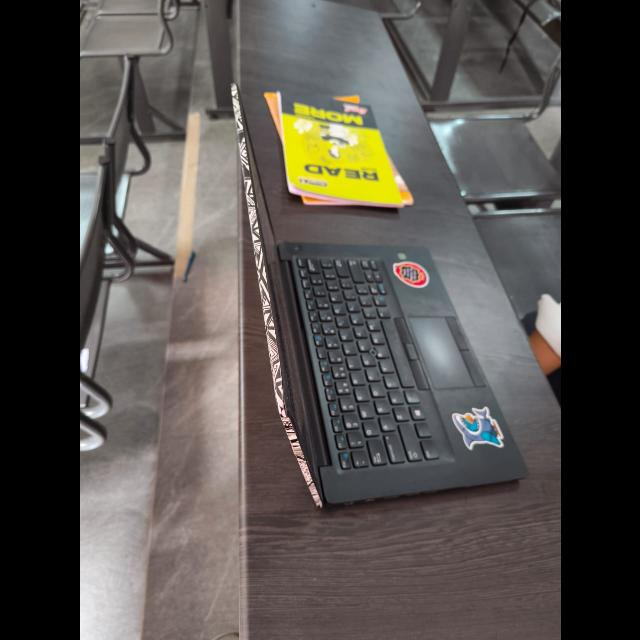laptop: (214, 214, 558, 518)
